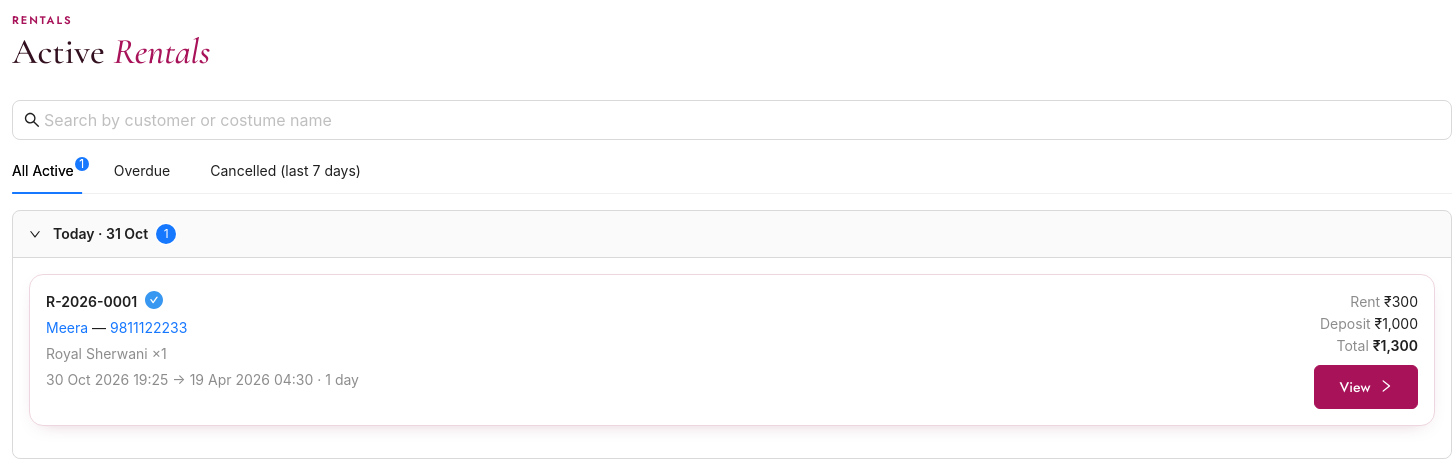
ReceiptsPage cancelled tab (#166) › shows an empty state when nothing was cancelled in the last 7 days
This screenshot has width=1452, height=476.
Click the tab "Cancelled (last 7 days)". click: x=290, y=171
box: x1=210 y1=160 x2=369 y2=182
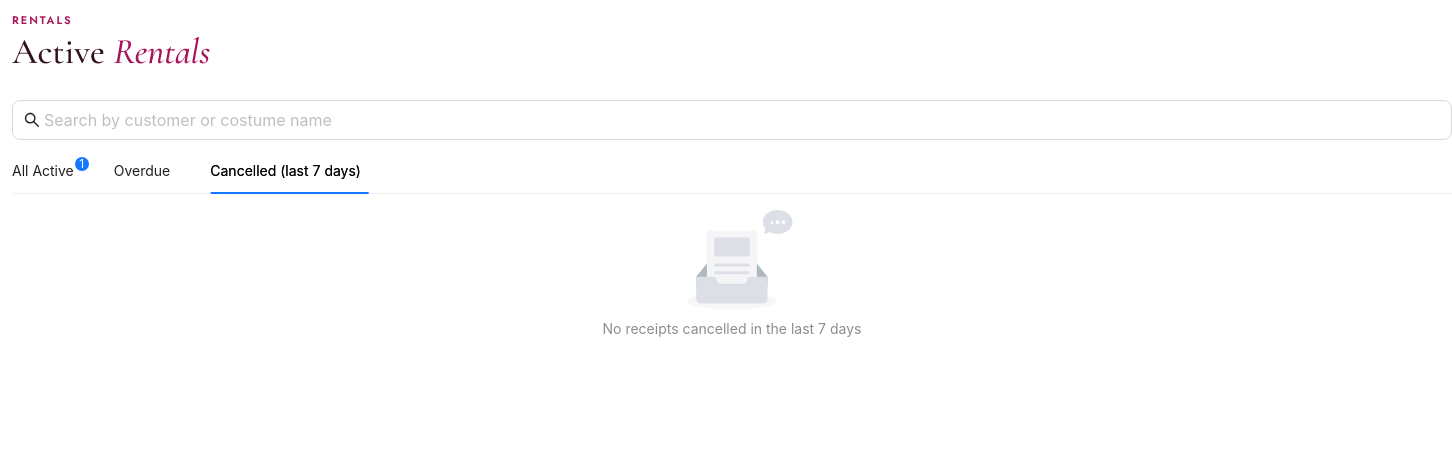
Expected: the text "No receipts cancelled in the last 7 days" is shown, x1=602 y1=320 x2=861 y2=337
